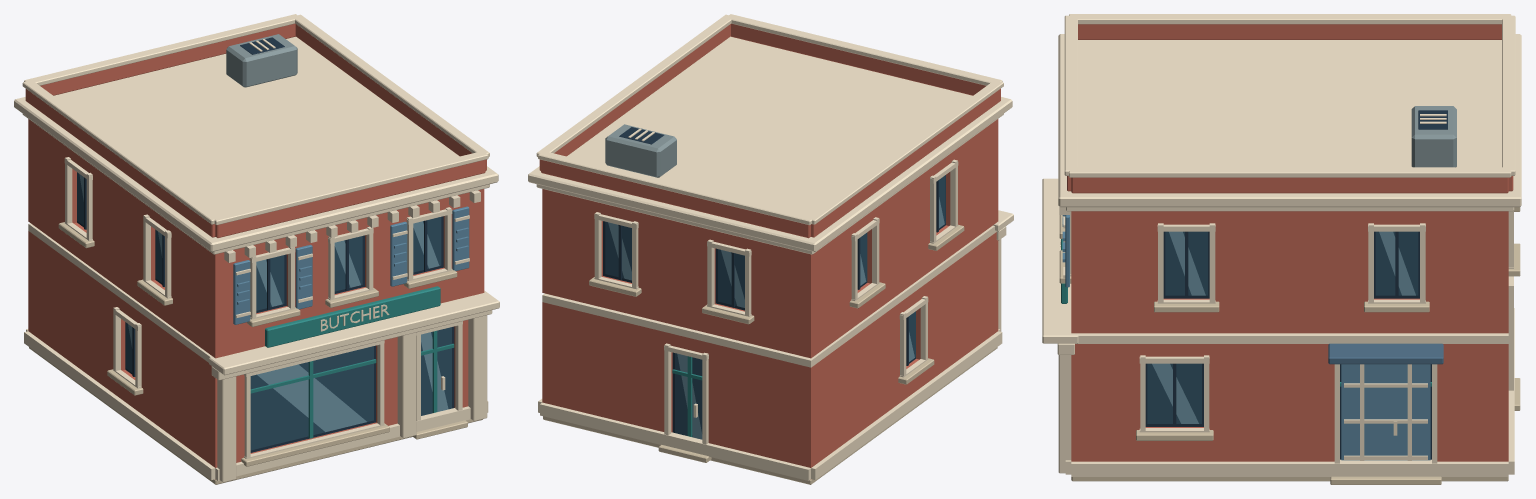
Rendered from butcher_shop.glb.
3 views of the same model, side by side, from view 1: azimuth 30°, elevation 25°; view 2: azimuth 150°, elevation 25°; view 3: azimuth 270°, elevation 25° (orthographic). The views are drawn at different scales.
Parts seen in each view (by area): view 1: ButcherShop_StaticMesh; view 2: ButcherShop_StaticMesh; view 3: ButcherShop_StaticMesh.
Boxes of the visible parts, bbox=[...] form: ButcherShop_StaticMesh: bbox=[14, 14, 499, 484]; ButcherShop_StaticMesh: bbox=[528, 14, 1013, 484]; ButcherShop_StaticMesh: bbox=[1042, 14, 1521, 484].
Bounding box in the file's own units: 8.23 × 7.22 × 9.64.
